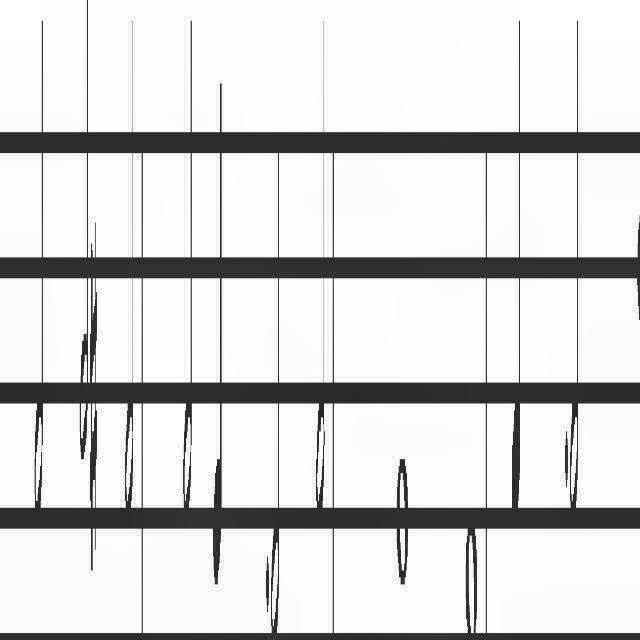Diez: (89, 209, 99, 571)
Full-note: (394, 446, 410, 584), (466, 494, 478, 640), (636, 188, 640, 348)
Half-note: (182, 7, 194, 529), (78, 0, 90, 466), (315, 0, 325, 528), (34, 0, 44, 528), (271, 118, 281, 640), (124, 7, 134, 529), (569, 0, 578, 528)
Quarter-note: (212, 49, 224, 599), (511, 1, 521, 544)
